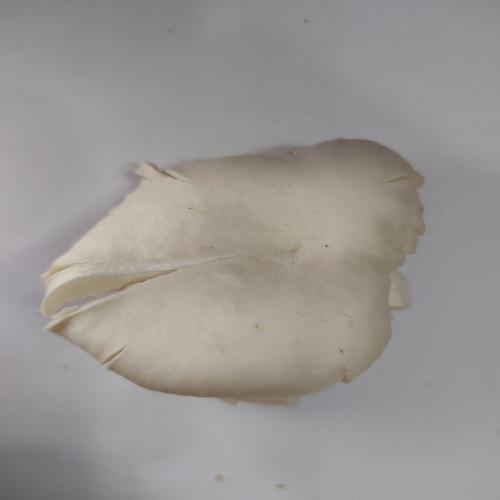Oyster Mushroom: (39, 136, 427, 404)
